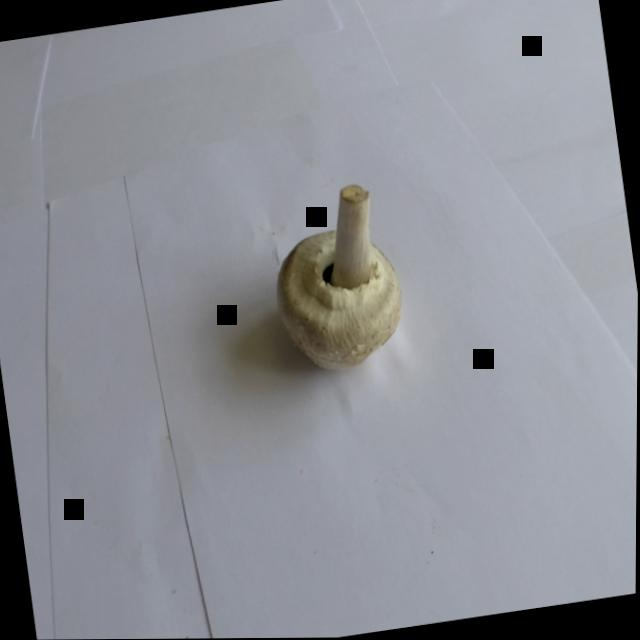Buttonmushroom: (234, 137, 455, 409)
